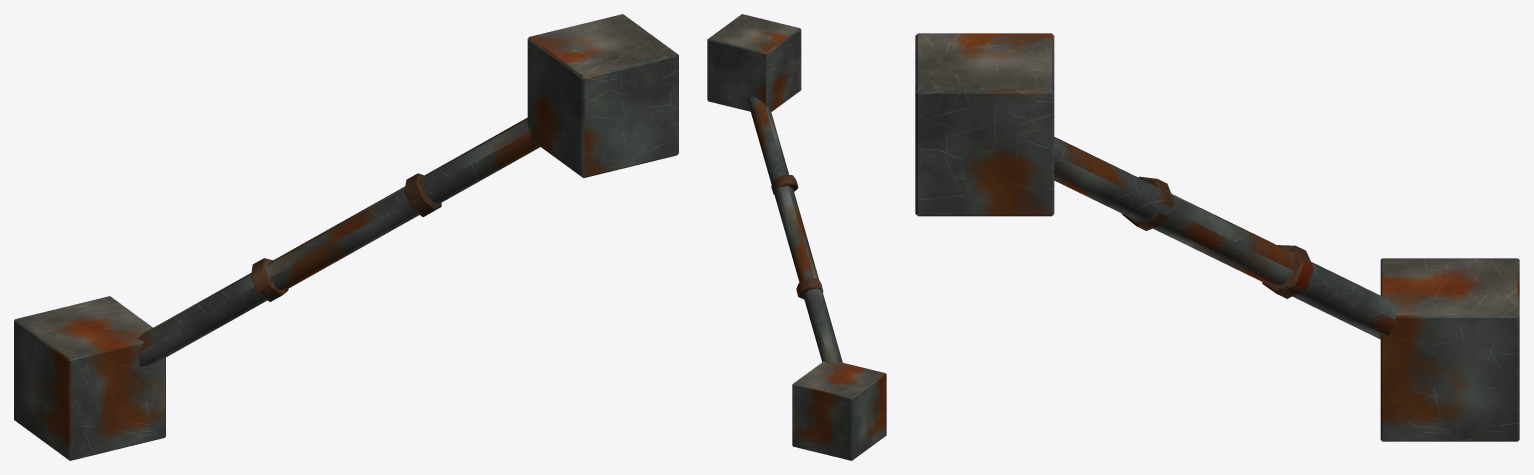
File: R4C_ROD_DIAG_3D_LOD1.glb
The picture shows the model from 3 angles, left to right: view 1: azimuth 30°, elevation 25°; view 2: azimuth 150°, elevation 25°; view 3: azimuth 270°, elevation 25°; orthographic projection. The views are drawn at different scales.
Parts seen in each view (by area): view 1: R4C_ROD_DIAG_3D_LOD1; view 2: R4C_ROD_DIAG_3D_LOD1; view 3: R4C_ROD_DIAG_3D_LOD1.
Boxes of the visible parts, bbox=[...] form: R4C_ROD_DIAG_3D_LOD1: bbox=[14, 14, 678, 460]; R4C_ROD_DIAG_3D_LOD1: bbox=[707, 14, 886, 460]; R4C_ROD_DIAG_3D_LOD1: bbox=[915, 33, 1519, 441].
Size of the model in its own units: 1.62 by 1.62 by 1.62.
Materials: 3 (3 with a texture image).
